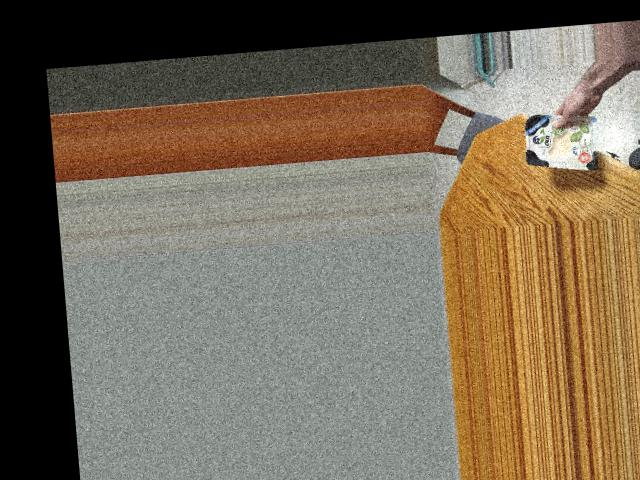cheese: (512, 106, 608, 176)
